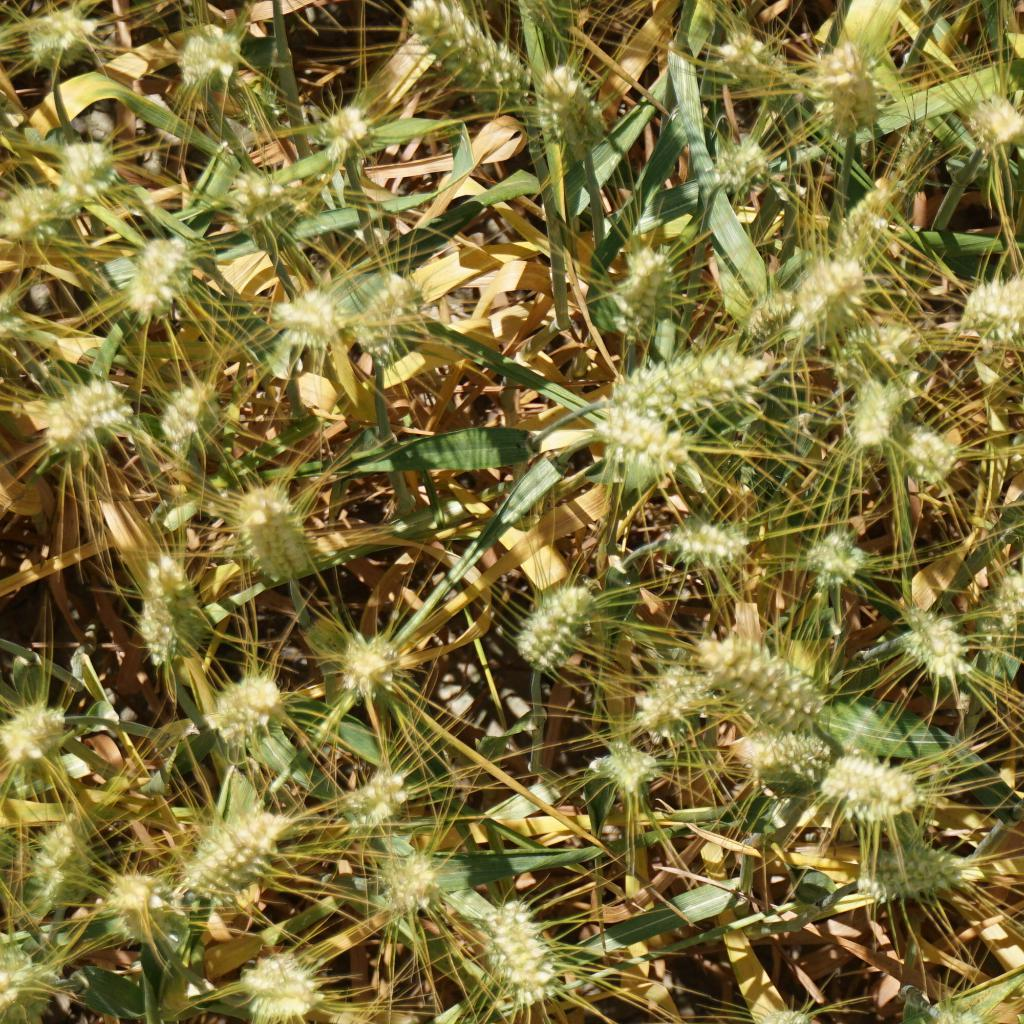0-0: (412, 0, 522, 113), (693, 634, 820, 728), (224, 484, 315, 589), (611, 348, 762, 408), (851, 841, 979, 904), (187, 816, 275, 907), (232, 164, 321, 251), (477, 905, 561, 993), (608, 241, 672, 346), (37, 375, 129, 448), (517, 576, 589, 665), (812, 37, 880, 131), (827, 754, 920, 821), (541, 60, 607, 152), (243, 950, 324, 1024), (23, 820, 88, 909), (944, 267, 1024, 339), (600, 410, 689, 473), (0, 697, 76, 769), (355, 274, 415, 364), (720, 27, 794, 99), (839, 324, 916, 387), (206, 664, 276, 733), (641, 667, 705, 742), (130, 236, 191, 313), (793, 265, 860, 335), (892, 615, 966, 675), (157, 387, 220, 457), (739, 739, 832, 786), (107, 873, 167, 945), (131, 587, 182, 670), (830, 183, 892, 250), (659, 517, 745, 565), (0, 945, 55, 1018), (344, 770, 409, 831), (899, 417, 966, 474), (20, 9, 93, 60), (144, 546, 201, 611), (275, 289, 335, 348), (807, 534, 871, 589), (970, 92, 1024, 157), (884, 117, 934, 186), (379, 855, 438, 912), (346, 636, 400, 697), (0, 184, 61, 237), (55, 144, 116, 196), (716, 140, 768, 201), (732, 286, 791, 338), (182, 32, 239, 85), (593, 743, 663, 786), (854, 384, 902, 444), (318, 109, 373, 160), (996, 565, 1024, 627), (0, 291, 24, 360), (924, 1003, 992, 1024), (747, 1003, 810, 1024)
